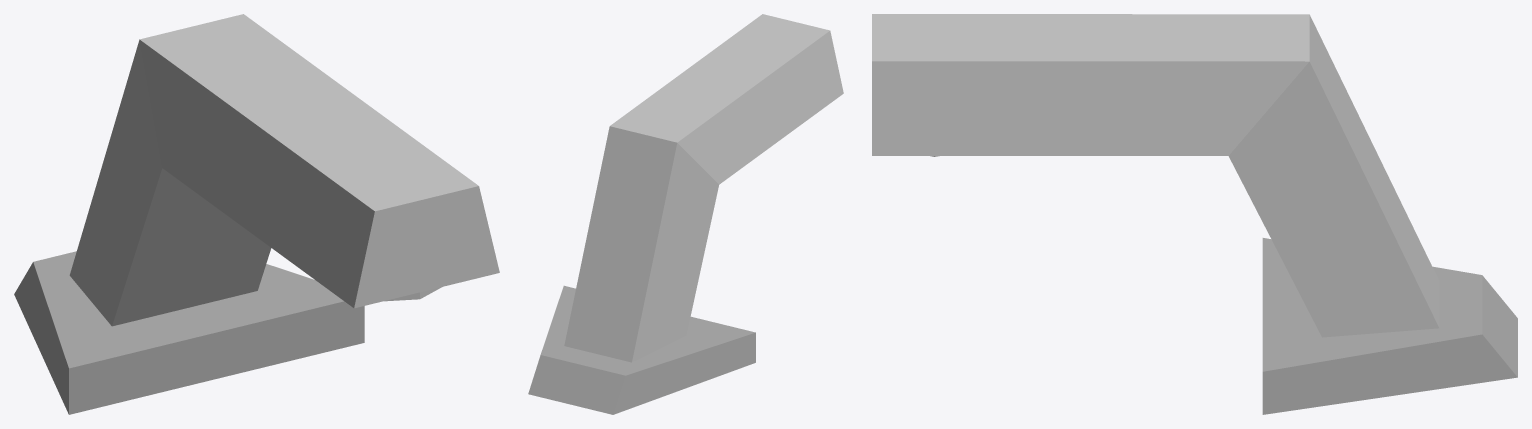
Rendered from faucet.glb.
3 renders of one model, left to right at view 1: azimuth 30°, elevation 25°; view 2: azimuth 150°, elevation 25°; view 3: azimuth 270°, elevation 25°, orthographic. The views are drawn at different scales.
Parts seen in each view (by area): view 1: Faucet 1; view 2: Faucet 1; view 3: Faucet 1.
Boxes of the visible parts, x1=… form: Faucet 1: x1=14, y1=14, x2=499, y2=414; Faucet 1: x1=528, y1=14, x2=843, y2=414; Faucet 1: x1=872, y1=14, x2=1517, y2=414.
Bounding box in the file's own units: 0.1051 × 0.1135 × 0.2139.
1 material, 1 textured.
